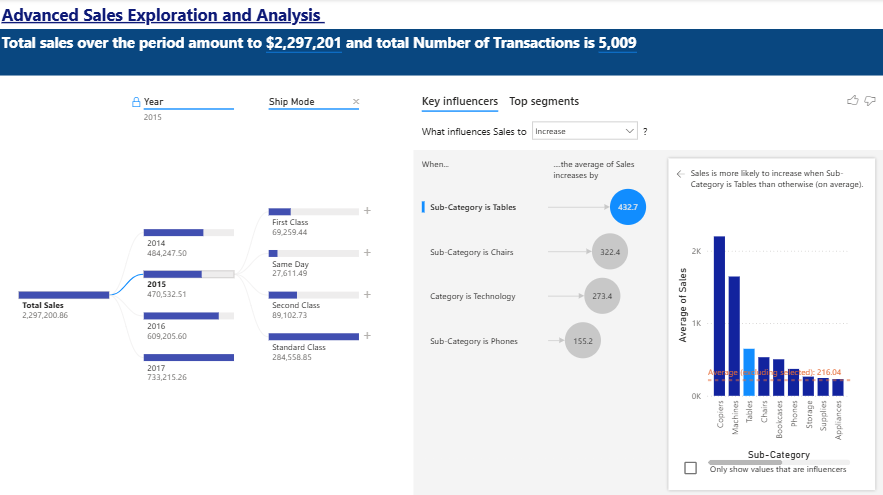

The page's visual inventory and layout, read from the dashboard file:
{"tool":"powerbi","page":{"name":"Advanced Analysis","canvas":[1280,720],"ordinal":5},"visuals":[{"type":"textbox","box":[0,0,510.7,43.7],"z":0},{"type":"textbox","box":[0,43.7,1280,67.2],"z":1000},{"type":"decompositionTreeVisual","fields":{"Analyze":["Sum(Orders.Sales)"],"ExplainBy":["Orders.Order Date.Variation.Date Hierarchy.Year","Orders.Ship Mode","Orders.Order Date.Variation.Date Hierarchy.Quarter","Orders.Order Date.Variation.Date Hierarchy.Month","Orders.Region","Orders.Segment","Orders.State","Orders.Sub-Category","Orders.Category","Orders.City"]},"box":[0,122.6,593,586.2],"z":2000},{"type":"keyDriversVisual","fields":{"Target":["Orders.Sales"],"ExplainBy":["Orders.Category","Orders.City","Orders.Region","Orders.Segment","Orders.Ship Mode","Orders.State","Orders.Sub-Category"]},"box":[593,122.6,687,598],"z":3000}]}

Visuals, with their boxes in screenshot pixels (x1, y1, x2, y2), scaled from the page's 1280x720 canvas onto the 883x495 screenshot:
textbox: pyautogui.locateOnScreen(0, 0, 352, 30)
textbox: pyautogui.locateOnScreen(0, 30, 882, 76)
decompositionTreeVisual - Sum(Orders.Sales) x Orders.Order Date.Variation.Date Hierarchy.Year: pyautogui.locateOnScreen(0, 84, 409, 487)
keyDriversVisual - Orders.Sales x Orders.Category: pyautogui.locateOnScreen(409, 84, 882, 494)
